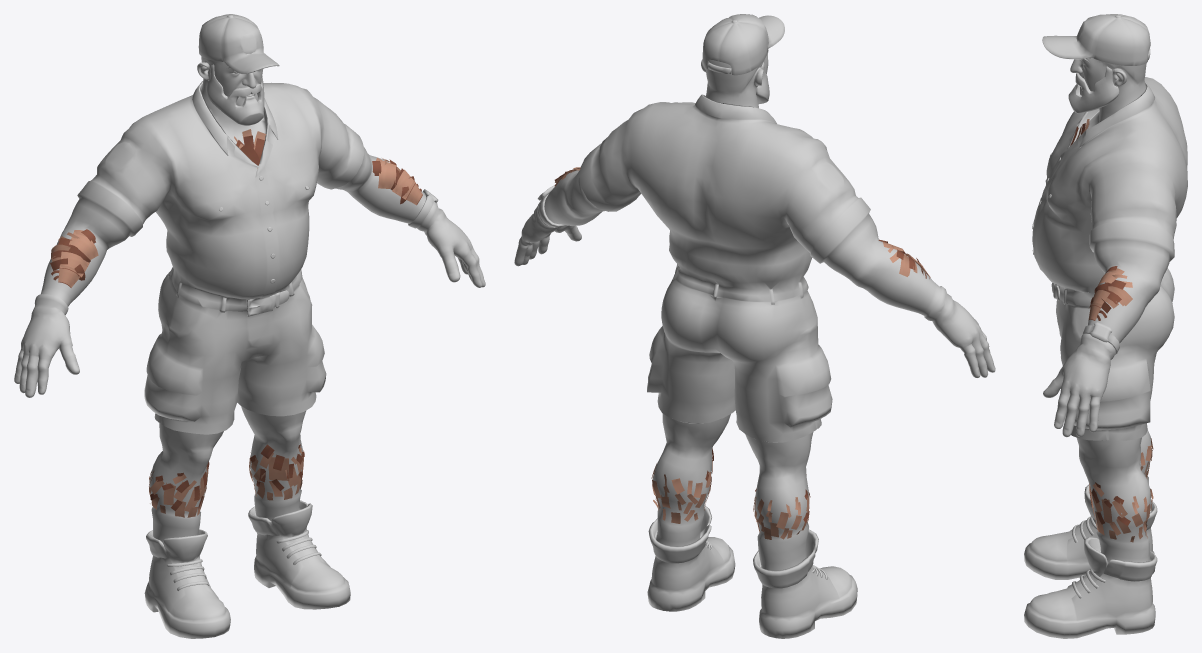
Rendered from SK_John.obj.
3 views of the same model, side by side, from view 1: azimuth 30°, elevation 25°; view 2: azimuth 150°, elevation 25°; view 3: azimuth 270°, elevation 25° (orthographic). The views are drawn at different scales.
Visible parts, largest first — view 1: SK_John_MI_John, SK_John_MI_Haircards; view 2: SK_John_MI_John, SK_John_MI_Haircards; view 3: SK_John_MI_John, SK_John_MI_Haircards.
Boxes of the visible parts, x1,y1,x2,y2 form: SK_John_MI_John: (14, 14, 485, 638); SK_John_MI_Haircards: (50, 129, 422, 517); SK_John_MI_John: (514, 14, 995, 638); SK_John_MI_Haircards: (554, 167, 930, 539); SK_John_MI_John: (1024, 14, 1187, 638); SK_John_MI_Haircards: (1070, 119, 1153, 542).
Bounding box in the file's own units: 1.55 × 1.86 × 0.4763.
